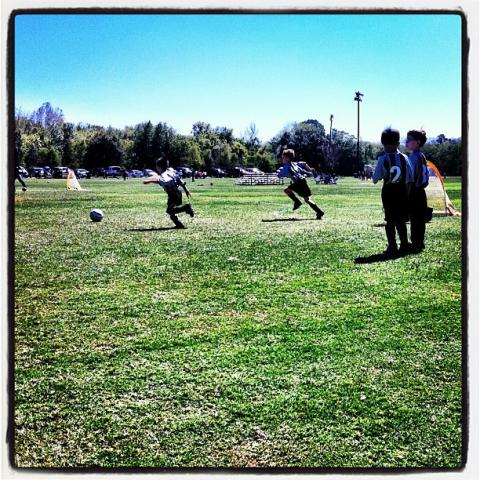car: (51, 167, 74, 177), (107, 166, 123, 177), (35, 169, 53, 178), (126, 169, 144, 178), (90, 168, 106, 178), (213, 168, 228, 178), (142, 169, 158, 178), (18, 165, 28, 178), (74, 169, 88, 178), (246, 168, 264, 175), (277, 167, 283, 174)
